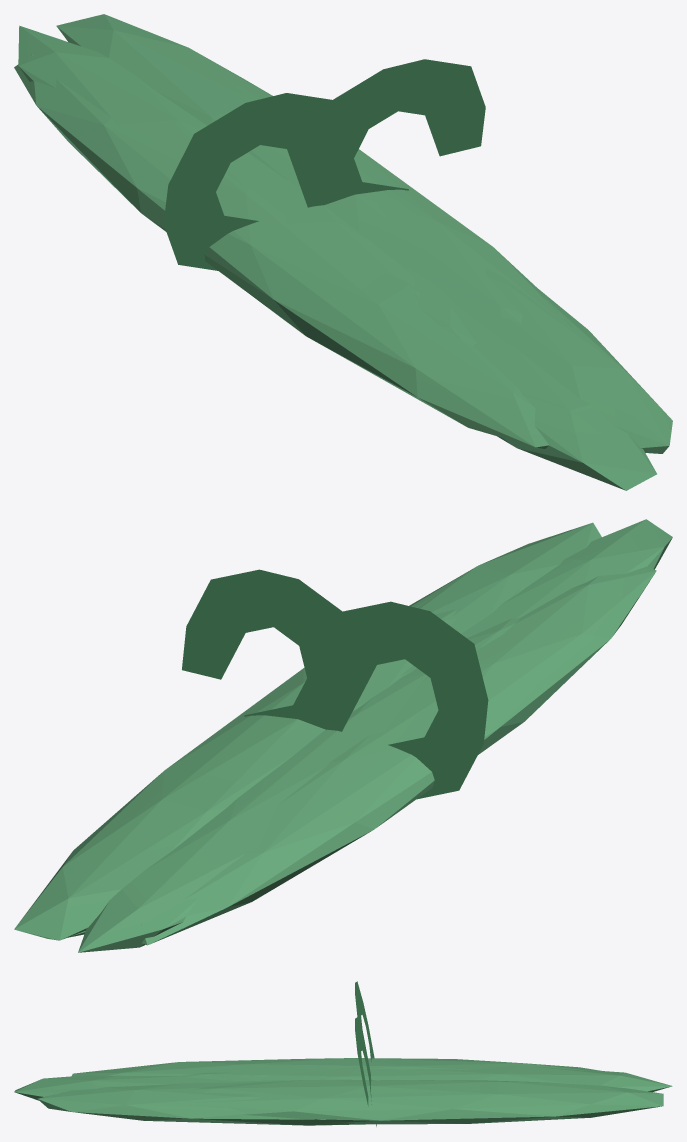
The model's file is christella-parasitica.glb.
3 views of the same model, one above another, from view 1: azimuth 30°, elevation 25°; view 2: azimuth 150°, elevation 25°; view 3: azimuth 270°, elevation 25° (orthographic). The views are drawn at different scales.
Parts seen in each view (by area): view 1: frond3, frond0, frond4, fiddle-1, fiddle1, frond1, frond2; view 2: frond3, frond0, frond4, fiddle1, fiddle-1, frond1, frond2; view 3: frond0, frond1, frond4, frond3, frond2, fiddle-1, fiddle1.
Part boxes in pixels (bbox=[...]): frond3: bbox=[14, 54, 548, 448]; frond0: bbox=[56, 14, 580, 335]; frond4: bbox=[18, 25, 476, 346]; fiddle-1: bbox=[163, 93, 347, 270]; fiddle1: bbox=[301, 59, 485, 207]; frond1: bbox=[438, 269, 672, 453]; frond2: bbox=[445, 300, 656, 490]; frond3: bbox=[141, 566, 656, 945]; frond0: bbox=[14, 593, 456, 940]; frond4: bbox=[78, 617, 520, 952]; fiddle1: bbox=[182, 569, 356, 731]; fiddle-1: bbox=[334, 601, 488, 799]; frond1: bbox=[409, 522, 601, 633]; frond2: bbox=[461, 519, 672, 637]; frond0: bbox=[172, 1079, 663, 1124]; frond1: bbox=[37, 1082, 365, 1125]; frond4: bbox=[182, 1065, 672, 1091]; frond3: bbox=[72, 1058, 629, 1076]; frond2: bbox=[14, 1075, 238, 1100]; fiddle-1: bbox=[355, 981, 374, 1070]; fiddle1: bbox=[355, 1017, 376, 1126].
Size of the model in its own units: 0.184 by 0.1057 by 0.6202.
